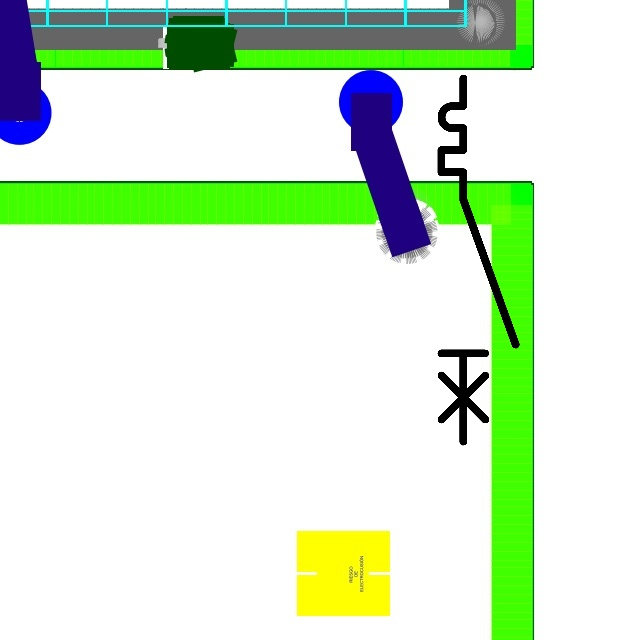interruptor_termomagnetico: (432, 69, 525, 451)
